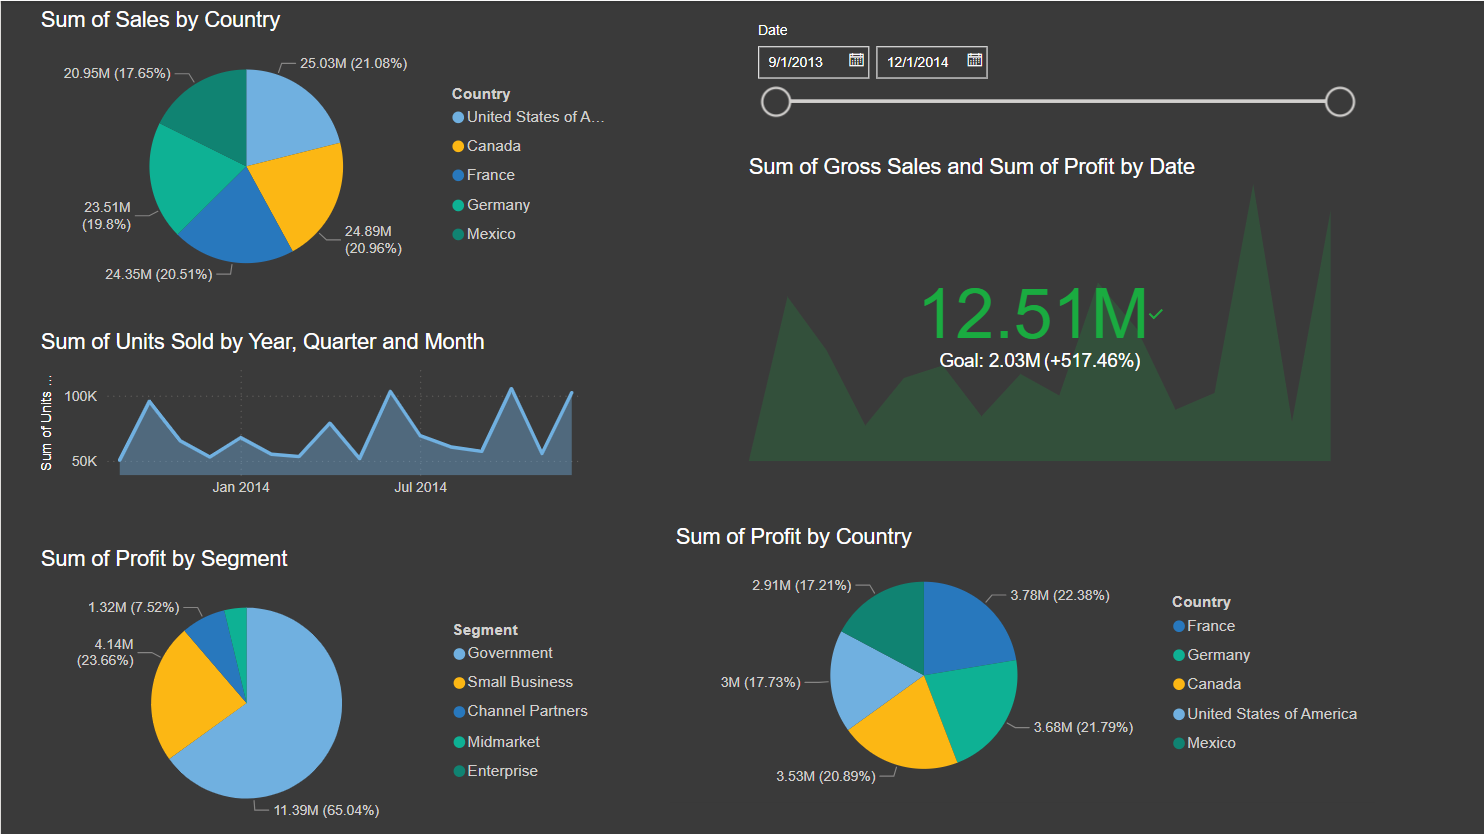

What the dashboard file says about the page in this screenshot:
{"tool":"powerbi","page":{"name":"Page 1","canvas":[1280,720],"ordinal":0},"visuals":[{"type":"pieChart","fields":{"Y":["Sum(financials. Sales)"],"Category":["financials.Country"]},"box":[29.2,4.9,517.4,253.9],"z":0},{"type":"pieChart","fields":{"Y":["Sum(financials.Profit)"],"Category":["financials.Country"]},"box":[577,451,608,240],"z":1000},{"type":"areaChart","fields":{"Y":["Sum(financials.Units Sold)"],"Category":["financials.Date.Variation.Date Hierarchy.Year","financials.Date.Variation.Date Hierarchy.Quarter","financials.Date.Variation.Date Hierarchy.Month","financials.Date.Variation.Date Hierarchy.Day"]},"box":[29,283,491,153],"z":2000},{"type":"slicer","fields":{"Values":["financials.Date"]},"box":[640,13,536,106],"z":3000},{"type":"kpi","fields":{"TrendLine":["financials.Date"],"Indicator":["Sum(financials.Gross Sales)"],"Goal":["Sum(financials.Profit)"]},"box":[640,132,512,270],"z":4000},{"type":"pieChart","fields":{"Category":["financials.Segment"],"Y":["Sum(financials.Profit)"]},"box":[29,470,491,250],"z":5000}]}

Visuals, with their boxes in screenshot pixels (x1, y1, x2, y2), scaled from the page's 1280x720 canvas onto the 1484x834 screenshot:
pieChart - Sum(financials. Sales) x financials.Country: <bbox>34, 6, 634, 300</bbox>
pieChart - Sum(financials.Profit) x financials.Country: <bbox>669, 522, 1374, 800</bbox>
areaChart - Sum(financials.Units Sold) x financials.Date.Variation.Date Hierarchy.Year: <bbox>34, 328, 603, 505</bbox>
slicer - financials.Date: <bbox>742, 15, 1363, 138</bbox>
kpi - financials.Date x Sum(financials.Gross Sales): <bbox>742, 153, 1336, 466</bbox>
pieChart - financials.Segment x Sum(financials.Profit): <bbox>34, 544, 603, 833</bbox>
